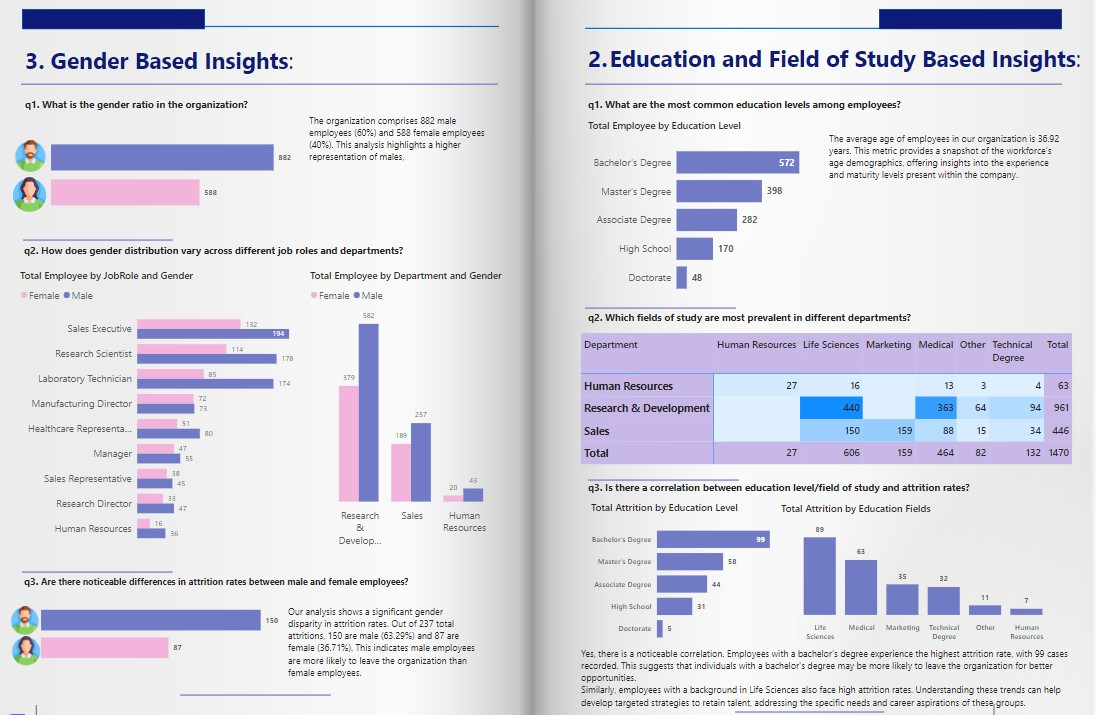

The dashboard page shown, as its layout file describes it:
{"tool":"powerbi","page":{"name":"Page 5-6","canvas":[2000,1600],"ordinal":3},"visuals":[{"type":"shape","box":[158.8,207.1,782.4,37.6],"z":0},{"type":"shape","box":[1082.4,209.8,782.4,37.3],"z":1000},{"type":"shape","box":[158.8,196.1,300,33.3],"z":2000},{"type":"shape","box":[1564.7,196.1,300,33.3],"z":3000},{"type":"shape","box":[174.5,1337.3,17.6,76.5],"z":4000},{"type":"textbox","box":[193.3,1356.7,146.7,56.7],"z":5000},{"type":"shape","box":[1743.7,1336.6,16.4,76.1],"z":6000},{"type":"textbox","box":[1760,1356.7,158.3,56.7],"z":7000},{"type":"image","box":[114.9,1347.8,59.7,47.8],"z":8000},{"type":"image","box":[1691.4,1351.6,59.7,47.8],"z":9000},{"type":"textbox","box":[158.3,250,478.3,61.7],"z":10000},{"type":"shape","box":[156.7,301.7,781.7,36.7],"z":11000},{"type":"textbox","box":[158.3,338.3,770,38.3],"z":12000},{"type":"textbox","box":[1081.7,248.3,836.7,63.3],"z":13000},{"type":"shape","box":[1082.2,301.8,781.7,36.7],"z":14000},{"type":"textbox","box":[1081.7,338.3,550,38.3],"z":15000},{"type":"shape","box":[1328.4,1337.8,244.6,23],"z":16000},{"type":"textbox","box":[127.8,29.6,633.3,75.9],"z":17000},{"type":"image","box":[9.3,22.2,135.2,92.6],"z":18000},{"type":"textbox","box":[1375,32.1,125,37.5],"z":19000},{"type":"card","fields":{"Values":["Measure.time"]},"box":[1468.5,25.9,342.6,42.6],"z":20000},{"type":"card","fields":{"Values":["Measure.time2"]},"box":[1775.9,25.9,153.7,42.6],"z":21000},{"type":"shape","box":[418.3,1315,246.7,13.3],"z":22000},{"type":"shape","box":[158.3,1113.3,246.7,13.3],"z":23000},{"type":"textbox","box":[1476.7,393.3,388.3,135],"z":24000},{"type":"textbox","box":[1082,686.9,572.1,36.1],"z":25000},{"type":"shape","box":[1425,775,246.7,13.3],"z":26000},{"type":"textbox","box":[1082,965.6,678.7,39.3],"z":27000},{"type":"pivotTable","fields":{"Rows":["HR-Employee-Attrition.Department"],"Columns":["HR-Employee-Attrition.EducationField"],"Values":["Measure.Total Employee"]},"box":[1070.5,723,826.2,227.9],"z":28000},{"type":"textbox","box":[1070.3,1237.8,812.2,123],"z":29000},{"type":"shape","box":[1086.7,961.7,246.7,13.3],"z":30000},{"type":"clusteredBarChart","fields":{"Category":["HR-Employee-Attrition.Gender"],"Y":["Measure.Total Employee"]},"box":[201.7,376.7,405,178.3],"z":31000},{"type":"image","box":[133.3,406.7,80,61.7],"z":32000},{"type":"image","box":[128.3,466.7,86.7,66.7],"z":33000},{"type":"textbox","box":[625,363.3,316.7,115],"z":34000},{"type":"textbox","box":[156.7,576.7,770,46.7],"z":35000},{"type":"shape","box":[160,568.3,245,13.3],"z":36000},{"type":"clusteredColumnChart","fields":{"Category":["HR-Employee-Attrition.Department"],"Series":["HR-Employee-Attrition.Gender"],"Y":["Measure.Total Employee"]},"box":[626.7,623.3,331.7,463.3],"z":37000},{"type":"clusteredBarChart","fields":{"Series":["HR-Employee-Attrition.Gender"],"Category":["HR-Employee-Attrition.JobRole"],"Y":["Measure.Total Employee"]},"box":[150,623.3,476.7,463.3],"z":38000},{"type":"textbox","box":[156.7,1120,770,46.7],"z":39000},{"type":"clusteredBarChart","fields":{"Category":["HR-Employee-Attrition.Gender"],"Y":["Measure.Total Atrititon"]},"box":[185,1146.7,405,145],"z":40000},{"type":"image","box":[131.7,1170,65,56.7],"z":41000},{"type":"image","box":[133.3,1220,65,58.3],"z":42000},{"type":"textbox","box":[590,1168.3,316.7,146.7],"z":43000},{"type":"clusteredBarChart","title":"Total Employee by Education Level","fields":{"Y":["Measure.Total Employee"],"Category":["HR-Employee-Attrition.EducationLevelText"]},"box":[1081.7,376.7,386.7,303.3],"z":44000},{"type":"shape","box":[1081.7,680,246.7,13.3],"z":45000},{"type":"clusteredBarChart","title":"Total Attrition by Education Level","fields":{"Category":["HR-Employee-Attrition.EducationLevelText"],"Y":["Measure.Total Atrititon"]},"box":[1086.9,1003.3,323,244.3],"z":46000},{"type":"clusteredColumnChart","title":"Total Attrition by Education Fields","fields":{"Y":["Measure.Total Atrititon"],"Category":["HR-Employee-Attrition.EducationField"]},"box":[1398.4,1004.9,467.2,236.1],"z":47000},{"type":"image","box":[26.8,1485.7,89.3,92.9],"z":48000},{"type":"textbox","box":[112.5,1512.5,314.3,39.3],"z":49000},{"type":"pageNavigator","box":[634.4,1501.6,1295.1,50.8],"z":49001}]}

Visuals, with their boxes on the page's 2000x1600 design canvas (x1, y1, x2, y2). These are canvas units, not pixel positions in the 1096x715 screenshot, which may show the page scaled, cropped or inside an application window:
shape: 159,207,941,245
shape: 1082,210,1865,247
shape: 159,196,459,229
shape: 1565,196,1865,229
shape: 174,1337,192,1414
textbox: 193,1357,340,1413
shape: 1744,1337,1760,1413
textbox: 1760,1357,1918,1413
image: 115,1348,175,1396
image: 1691,1352,1751,1399
textbox: 158,250,637,312
shape: 157,302,938,338
textbox: 158,338,928,377
textbox: 1082,248,1918,312
shape: 1082,302,1864,338
textbox: 1082,338,1632,377
shape: 1328,1338,1573,1361
textbox: 128,30,761,106
image: 9,22,144,115
textbox: 1375,32,1500,70
card - Measure.time: 1468,26,1811,68
card - Measure.time2: 1776,26,1930,68
shape: 418,1315,665,1328
shape: 158,1113,405,1127
textbox: 1477,393,1865,528
textbox: 1082,687,1654,723
shape: 1425,775,1672,788
textbox: 1082,966,1761,1005
pivotTable - HR-Employee-Attrition.Department x HR-Employee-Attrition.EducationField: 1070,723,1897,951
textbox: 1070,1238,1882,1361
shape: 1087,962,1333,975
clusteredBarChart - HR-Employee-Attrition.Gender x Measure.Total Employee: 202,377,607,555
image: 133,407,213,468
image: 128,467,215,533
textbox: 625,363,942,478
textbox: 157,577,927,623
shape: 160,568,405,582
clusteredColumnChart - HR-Employee-Attrition.Department x HR-Employee-Attrition.Gender: 627,623,958,1087
clusteredBarChart - HR-Employee-Attrition.Gender x HR-Employee-Attrition.JobRole: 150,623,627,1087
textbox: 157,1120,927,1167
clusteredBarChart - HR-Employee-Attrition.Gender x Measure.Total Atrititon: 185,1147,590,1292
image: 132,1170,197,1227
image: 133,1220,198,1278
textbox: 590,1168,907,1315
"Total Employee by Education Level" clusteredBarChart: 1082,377,1468,680
shape: 1082,680,1328,693
"Total Attrition by Education Level" clusteredBarChart: 1087,1003,1410,1248
"Total Attrition by Education Fields" clusteredColumnChart: 1398,1005,1866,1241
image: 27,1486,116,1579
textbox: 112,1512,427,1552
pageNavigator: 634,1502,1930,1552
